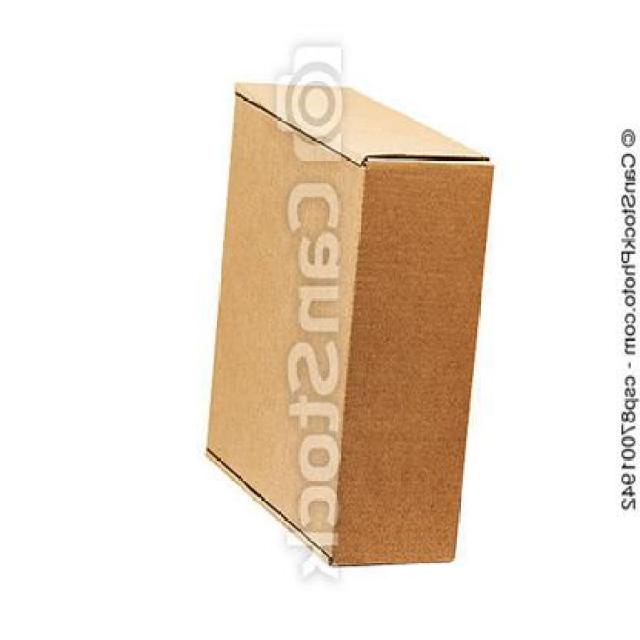normal: (192, 67, 510, 578)
